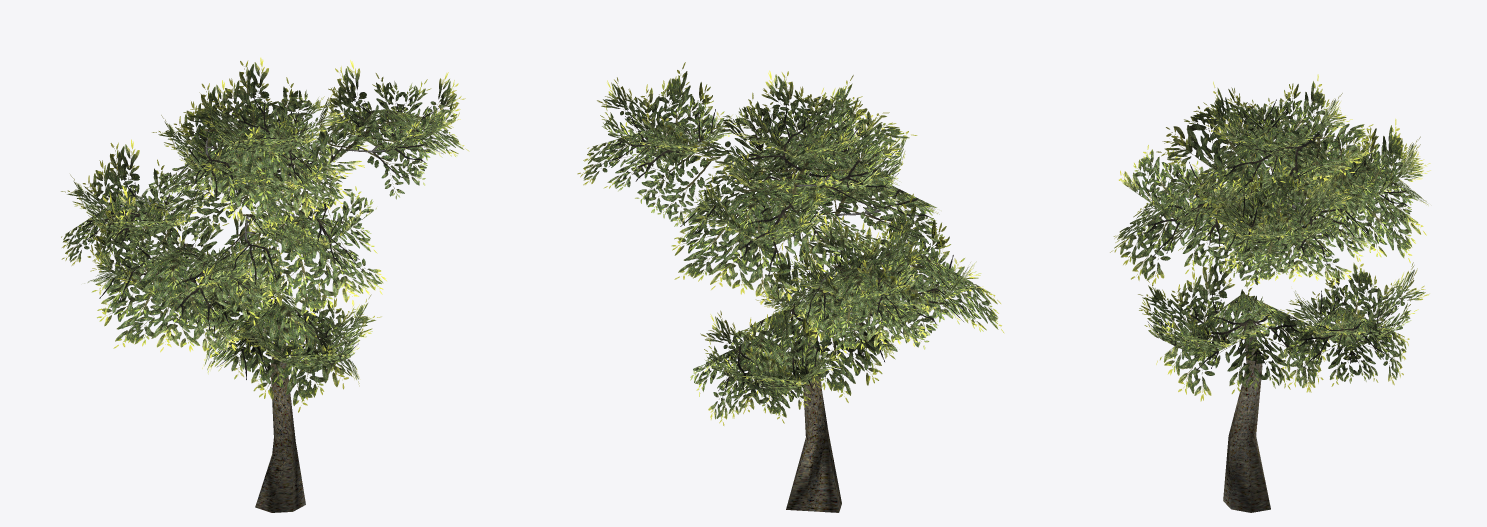
Rendered from oak_holly_4.glb.
The picture shows the model from 3 angles, left to right: view 1: azimuth 30°, elevation 25°; view 2: azimuth 150°, elevation 25°; view 3: azimuth 270°, elevation 25°; orthographic projection. The views are drawn at different scales.
Parts seen in each view (by area): view 1: oak_holly_4; view 2: oak_holly_4; view 3: oak_holly_4.
Part boxes in pixels (x1,y1,x2,y2): oak_holly_4: (61,57,469,512); oak_holly_4: (577,62,1004,512); oak_holly_4: (1110,74,1430,512).
Size of the model in its own units: 23 by 21.43 by 17.02.
1 material, 1 textured.
